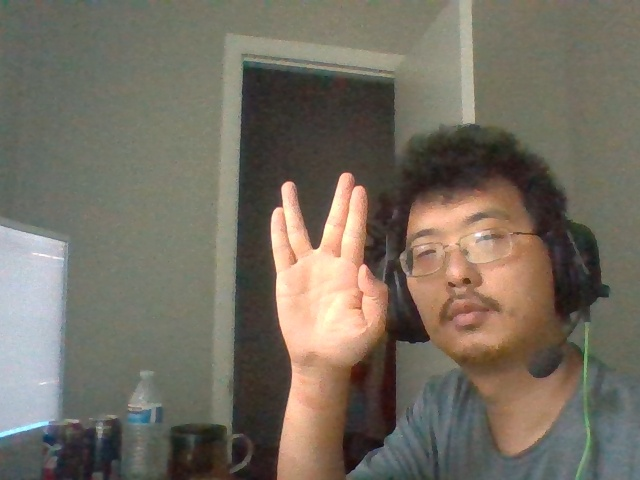LiveLong: (269, 172, 389, 374)
